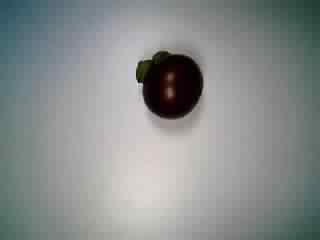mangosteen: (132, 47, 206, 126)
